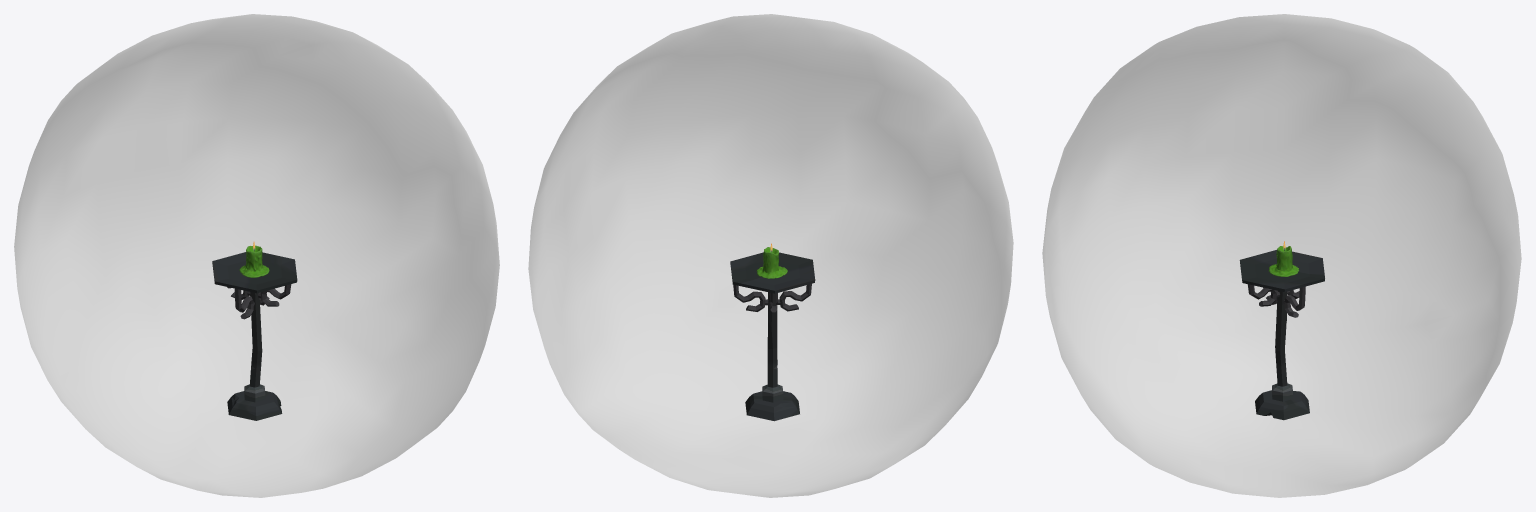
Rendered from ecclesiasticalShortComplete.glb.
3 renders of one model, left to right at view 1: azimuth 30°, elevation 25°; view 2: azimuth 150°, elevation 25°; view 3: azimuth 270°, elevation 25°, orthographic.
Parts seen in each view (by area): view 1: Room, Candle_Stand, XBase; view 2: Room, Candle_Stand, XBase; view 3: Room, Candle_Stand, XBase.
Boxes of the visible parts, <box> form: Room: <box>14,14,499,497</box>; Candle_Stand: <box>212,252,297,420</box>; XBase: <box>239,245,269,277</box>; Room: <box>528,14,1013,497</box>; Candle_Stand: <box>730,252,815,421</box>; XBase: <box>756,247,787,278</box>; Room: <box>1042,14,1521,497</box>; Candle_Stand: <box>1239,250,1324,420</box>; XBase: <box>1268,246,1299,276</box>.
Size of the model in its own units: 24.43 by 24.43 by 24.44.
4 materials, 3 textured.
